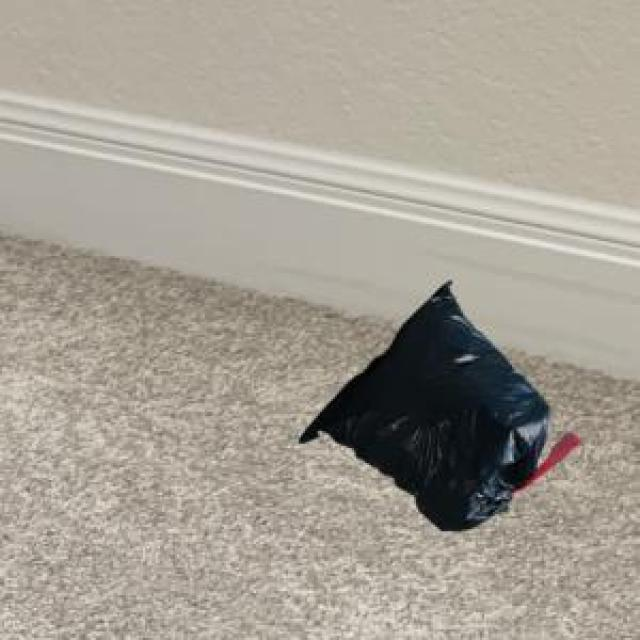Vinyl: (300, 281, 581, 531)
